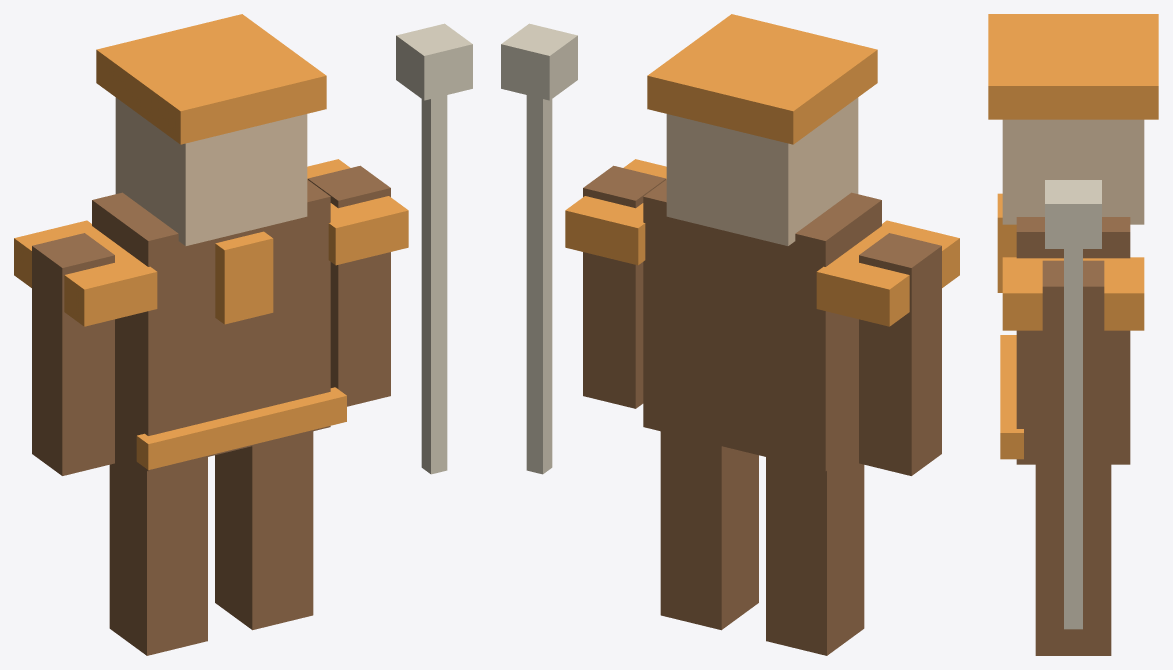
The model's file is 18_eryk_glassroot_tamer_near_saltscar.glb.
3 renders of one model, left to right at view 1: azimuth 30°, elevation 25°; view 2: azimuth 150°, elevation 25°; view 3: azimuth 270°, elevation 25°, orthographic.
Visible parts, largest first — view 1: Eryk Glassroot, Tamer near Saltscar; view 2: Eryk Glassroot, Tamer near Saltscar; view 3: Eryk Glassroot, Tamer near Saltscar.
Part boxes in pixels (<box>): Eryk Glassroot, Tamer near Saltscar: <box>14,14,472,655</box>; Eryk Glassroot, Tamer near Saltscar: <box>501,14,959,655</box>; Eryk Glassroot, Tamer near Saltscar: <box>988,14,1158,655</box>.
Bounding box in the file's own units: 1.08 × 1.4 × 0.382.
